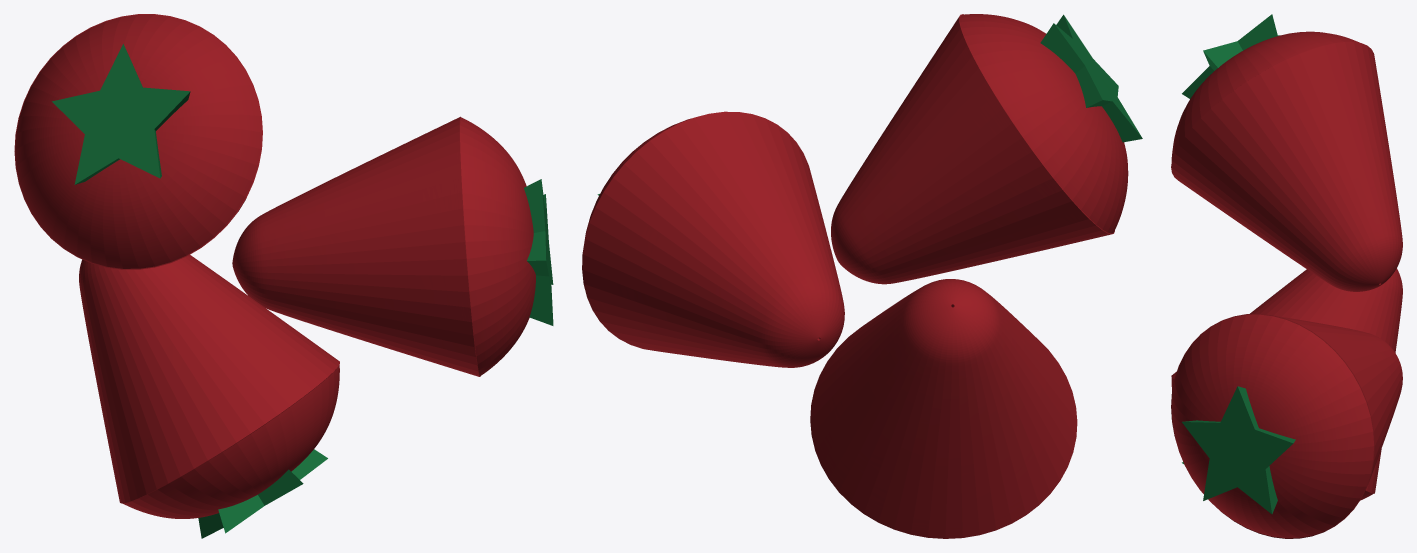
Rendered from tinker.obj.
The picture shows the model from 3 angles, left to right: view 1: azimuth 30°, elevation 25°; view 2: azimuth 150°, elevation 25°; view 3: azimuth 270°, elevation 25°; orthographic projection. The views are drawn at different scales.
Parts seen in each view (by area): view 1: obj_5, obj_1, obj_7, obj_8, obj_2, obj_3, obj_6, obj_0, obj_4; view 2: obj_7, obj_1, obj_4, obj_5, obj_3; view 3: obj_4, obj_8, obj_6, obj_1, obj_7, obj_5, obj_3.
Part boxes in pixels (x1=…): obj_5: x1=15, y1=14, x2=261, y2=268; obj_1: x1=79, y1=255, x2=339, y2=503; obj_7: x1=232, y1=116, x2=480, y2=376; obj_8: x1=460, y1=117, x2=535, y2=375; obj_2: x1=122, y1=365, x2=339, y2=518; obj_3: x1=52, y1=44, x2=190, y2=184; obj_6: x1=524, y1=179, x2=553, y2=325; obj_0: x1=198, y1=449, x2=327, y2=538; obj_4: x1=14, y1=14, x2=262, y2=269; obj_7: x1=582, y1=111, x2=844, y2=367; obj_1: x1=810, y1=279, x2=1077, y2=538; obj_4: x1=831, y1=14, x2=1114, y2=284; obj_5: x1=960, y1=14, x2=1128, y2=233; obj_3: x1=1040, y1=14, x2=1142, y2=142; obj_4: x1=1171, y1=42, x2=1402, y2=291; obj_8: x1=1171, y1=314, x2=1373, y2=538; obj_6: x1=1182, y1=386, x2=1295, y2=514; obj_1: x1=1171, y1=268, x2=1402, y2=493; obj_7: x1=1171, y1=313, x2=1402, y2=538; obj_5: x1=1171, y1=31, x2=1359, y2=160; obj_3: x1=1182, y1=14, x2=1279, y2=98.
Bounding box in the file's own units: 14.43 × 14 × 6.35.
